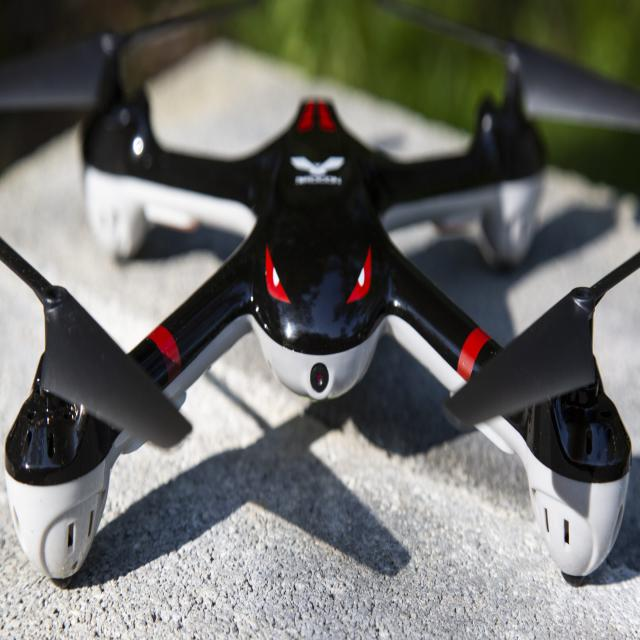drone: (0, 5, 640, 593)
